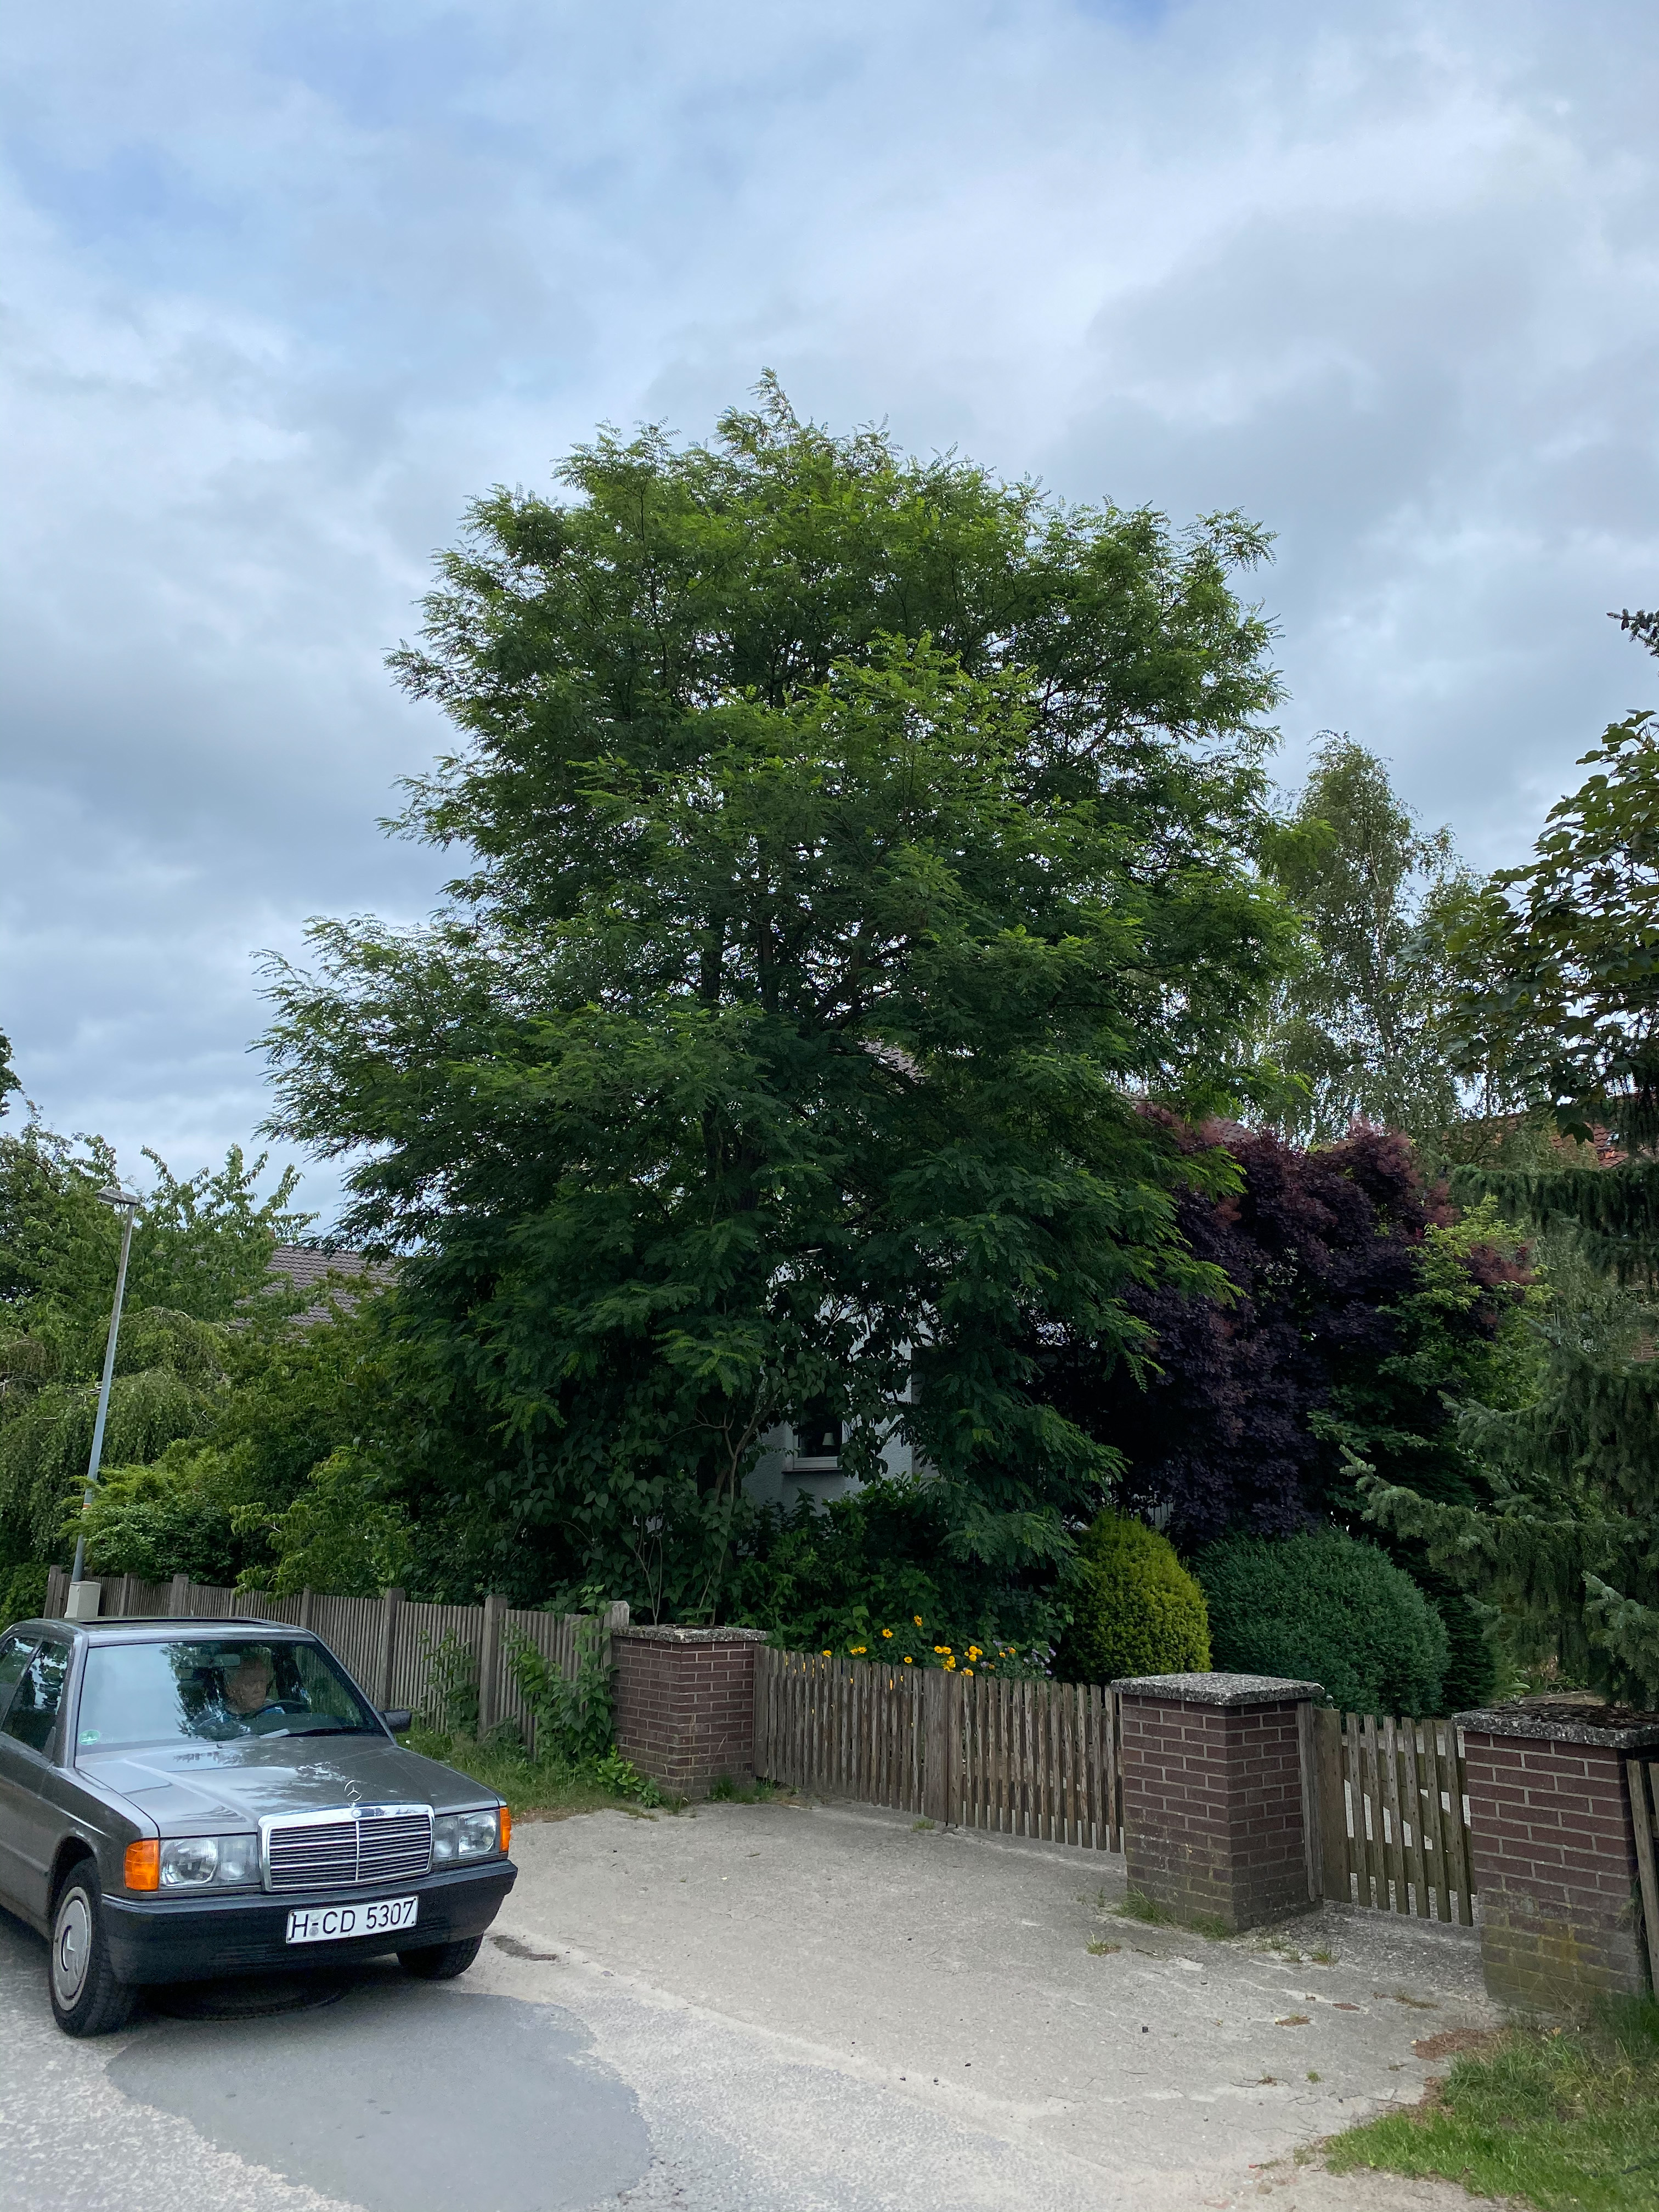tree: (246, 366, 1338, 1623), (1338, 608, 1659, 1712), (1021, 1097, 1537, 1554), (1377, 709, 1659, 1148), (0, 1101, 336, 1388), (0, 1026, 26, 1118)
